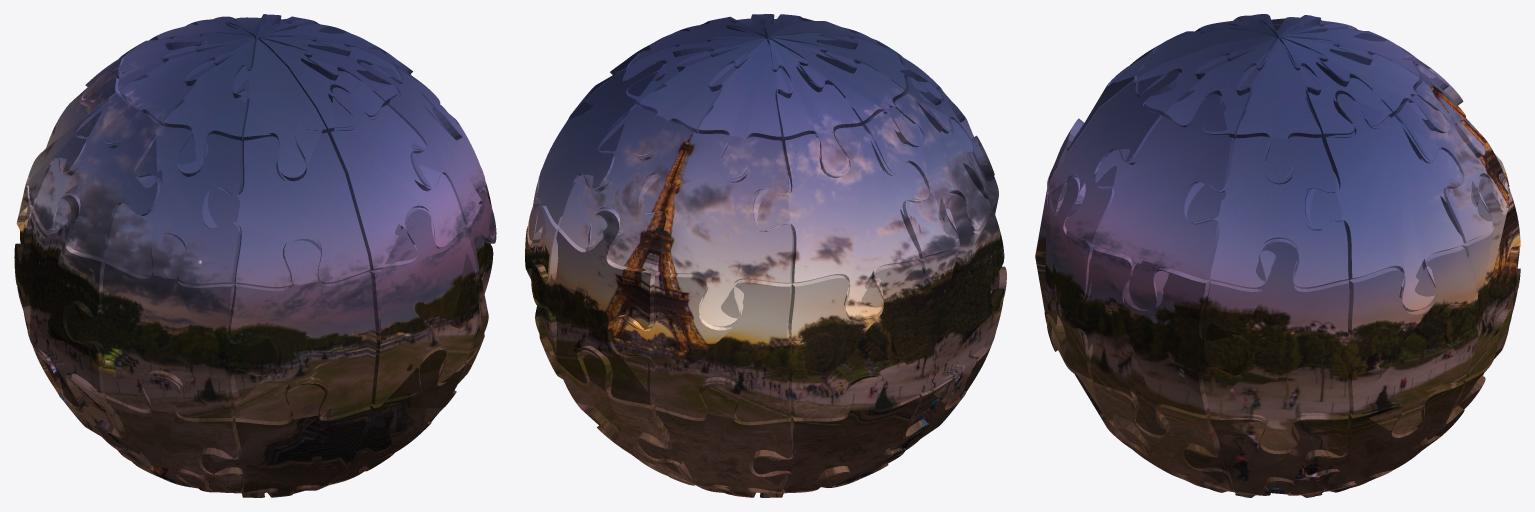
Rendered from easy-puzzle-v10.fbx.
3 renders of one model, left to right at view 1: azimuth 30°, elevation 25°; view 2: azimuth 150°, elevation 25°; view 3: azimuth 270°, elevation 25°, orthographic.
Parts seen in each view (by area): view 1: Puzzle-Easy, Puzzle-Easy.033, Puzzle-Easy.014, Puzzle-Easy.015, Puzzle-Easy.018, Puzzle-Easy.002, Puzzle-Easy.001, Puzzle-Easy.019, Puzzle-Easy.026, Puzzle-Easy.013, Puzzle-Easy.034, Puzzle-Easy.025 (+6 smaller); view 2: Puzzle-Easy, Puzzle-Easy.028, Puzzle-Easy.020, Puzzle-Easy.021, Puzzle-Easy.027, Puzzle-Easy.029, Puzzle-Easy.026, Puzzle-Easy.022, Puzzle-Easy.019, Puzzle-Easy.037, Puzzle-Easy.036, Puzzle-Easy.023 (+7 smaller); view 3: Puzzle-Easy, Puzzle-Easy.031, Puzzle-Easy.032, Puzzle-Easy.023, Puzzle-Easy.025, Puzzle-Easy.024, Puzzle-Easy.030, Puzzle-Easy.029, Puzzle-Easy.040, Puzzle-Easy.001, Puzzle-Easy.022, Puzzle-Easy.039 (+7 smaller).
Boxes of the visible parts, bbox=[...] form: Puzzle-Easy: bbox=[81, 14, 404, 181]; Puzzle-Easy.033: bbox=[66, 233, 279, 418]; Puzzle-Easy.014: bbox=[229, 239, 376, 421]; Puzzle-Easy.015: bbox=[202, 132, 370, 288]; Puzzle-Easy.018: bbox=[106, 126, 243, 285]; Puzzle-Easy.002: bbox=[369, 208, 477, 404]; Puzzle-Easy.001: bbox=[328, 87, 465, 271]; Puzzle-Easy.019: bbox=[33, 94, 162, 260]; Puzzle-Easy.026: bbox=[15, 194, 107, 406]; Puzzle-Easy.013: bbox=[201, 382, 370, 496]; Puzzle-Easy.034: bbox=[98, 376, 242, 491]; Puzzle-Easy.025: bbox=[359, 62, 495, 239]; Puzzle-Easy: bbox=[616, 14, 941, 178]; Puzzle-Easy.028: bbox=[612, 272, 836, 421]; Puzzle-Easy.020: bbox=[753, 125, 926, 320]; Puzzle-Easy.021: bbox=[638, 133, 793, 327]; Puzzle-Easy.027: bbox=[788, 260, 930, 418]; Puzzle-Easy.029: bbox=[532, 209, 656, 405]; Puzzle-Easy.026: bbox=[891, 193, 1003, 406]; Puzzle-Easy.022: bbox=[559, 105, 697, 271]; Puzzle-Easy.019: bbox=[862, 93, 990, 259]; Puzzle-Easy.037: bbox=[638, 382, 793, 496]; Puzzle-Easy.036: bbox=[751, 375, 927, 491]; Puzzle-Easy.023: bbox=[528, 62, 664, 241]; Puzzle-Easy: bbox=[1109, 14, 1447, 179]; Puzzle-Easy.031: bbox=[1203, 238, 1394, 450]; Puzzle-Easy.032: bbox=[1060, 246, 1247, 435]; Puzzle-Easy.023: bbox=[1305, 94, 1463, 311]; Puzzle-Easy.025: bbox=[1094, 94, 1235, 310]; Puzzle-Easy.024: bbox=[1184, 136, 1348, 288]; Puzzle-Easy.030: bbox=[1348, 245, 1475, 434]; Puzzle-Easy.029: bbox=[1443, 176, 1520, 378]; Puzzle-Easy.040: bbox=[1184, 415, 1348, 494]; Puzzle-Easy.001: bbox=[1048, 71, 1180, 244]; Puzzle-Easy.022: bbox=[1392, 80, 1508, 243]; Puzzle-Easy.039: bbox=[1302, 381, 1463, 491].
Size of the model in its own units: 130 by 130 by 130.
